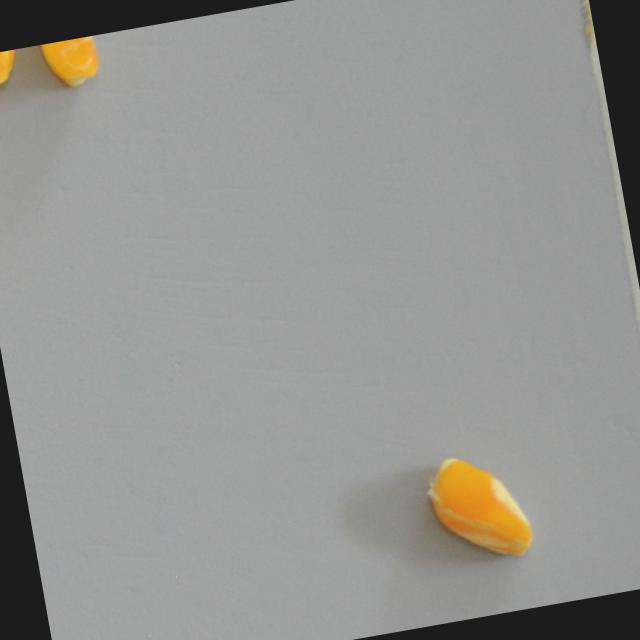pelicula: (418, 442, 538, 570), (34, 35, 102, 94), (0, 49, 21, 90)
